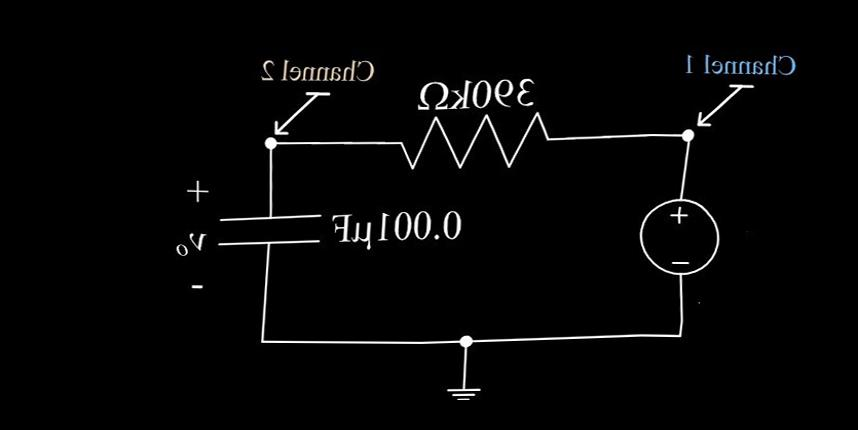Battery: (601, 182, 738, 288)
